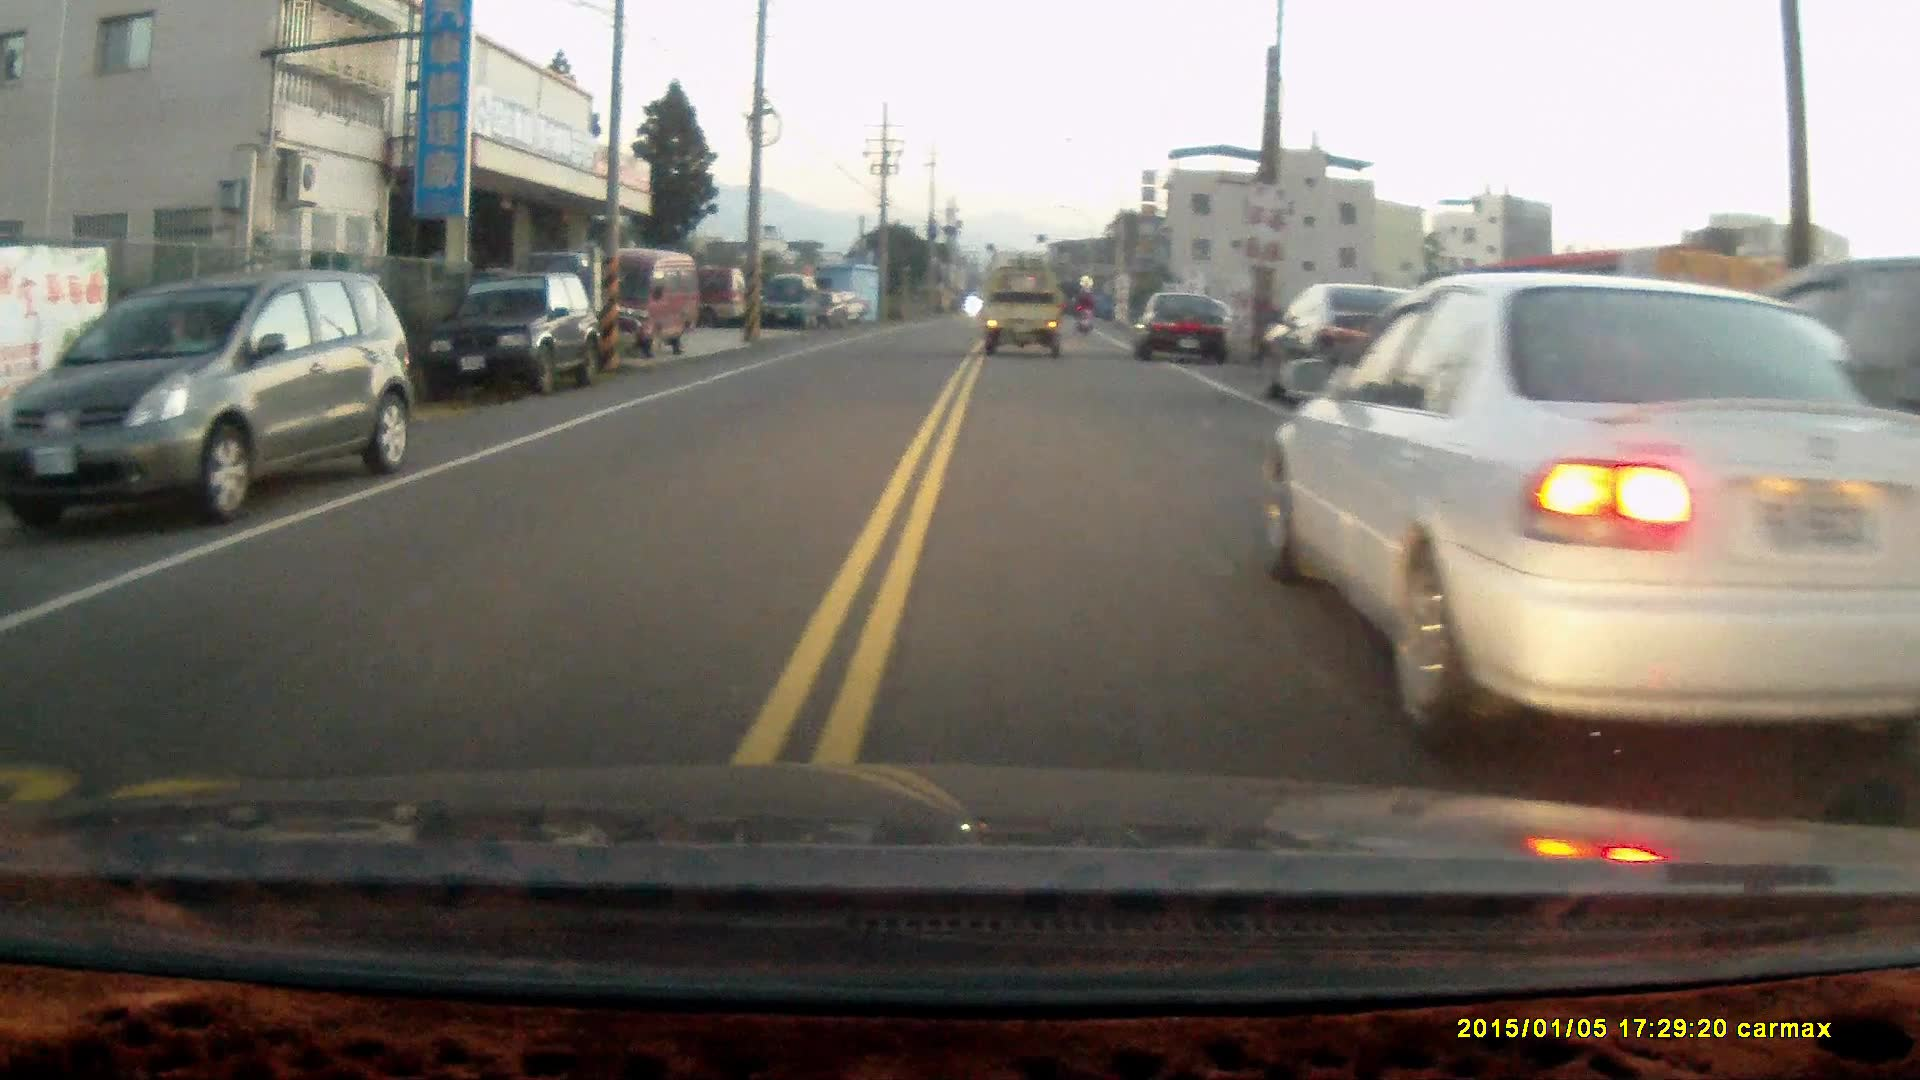rider: (1070, 289, 1097, 337)
vehicle: (1250, 266, 1920, 741), (1527, 258, 1920, 608), (3, 268, 411, 522), (1257, 281, 1458, 417), (430, 270, 604, 398), (571, 250, 701, 358), (975, 272, 1071, 358), (1132, 291, 1235, 365), (762, 272, 825, 334)
